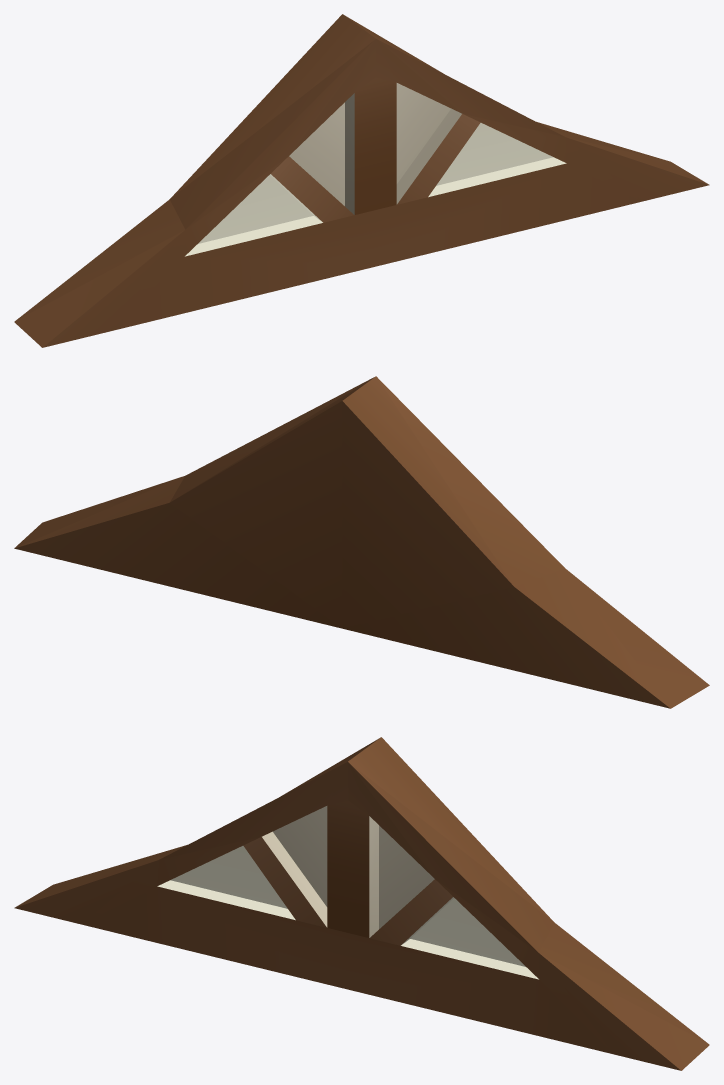
The model's file is House_4x4_Gable.gltf.
3 views of the same model, one above another, from view 1: azimuth 30°, elevation 25°; view 2: azimuth 150°, elevation 25°; view 3: azimuth 330°, elevation 25° (orthographic).
Visible parts, largest first — view 1: House_4x4_Gable; view 2: House_4x4_Gable; view 3: House_4x4_Gable.
Part boxes in pixels (x1,y1,x2,y2): House_4x4_Gable: [14, 14, 709, 347]; House_4x4_Gable: [14, 376, 709, 708]; House_4x4_Gable: [14, 737, 709, 1070].
Bounding box in the file's own units: 4.28 × 1.4 × 0.3798.
Materials: 1 (1 with a texture image).
